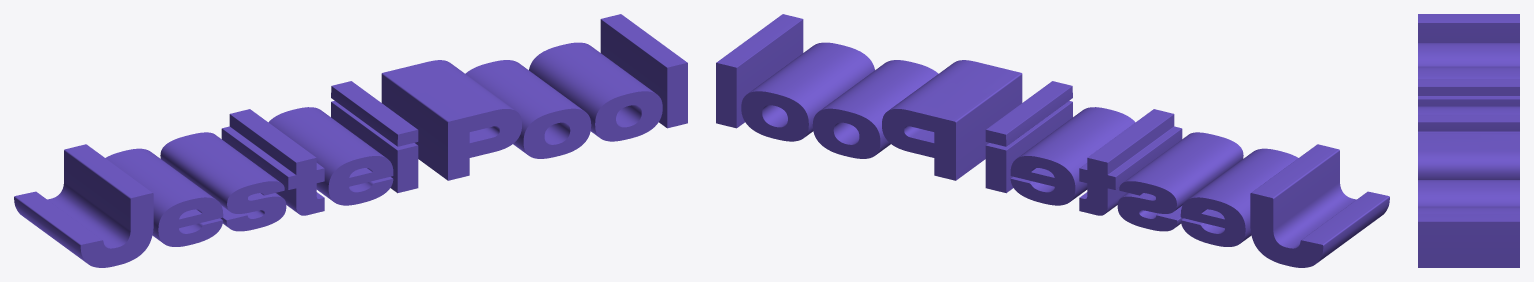
The model's file is jestei-wordmark-biloba.obj.
The picture shows the model from 3 angles, left to right: view 1: azimuth 30°, elevation 25°; view 2: azimuth 150°, elevation 25°; view 3: azimuth 270°, elevation 25°; orthographic projection. The views are drawn at different scales.
Visible parts, largest first — view 1: jestei-wordmark-biloba; view 2: jestei-wordmark-biloba; view 3: jestei-wordmark-biloba.
Part boxes in pixels (x1,y1,x2,y2): jestei-wordmark-biloba: (14, 14, 687, 267); jestei-wordmark-biloba: (716, 14, 1389, 267); jestei-wordmark-biloba: (1418, 14, 1519, 267).
Size of the model in its own units: 2 by 0.2014 by 0.38.
